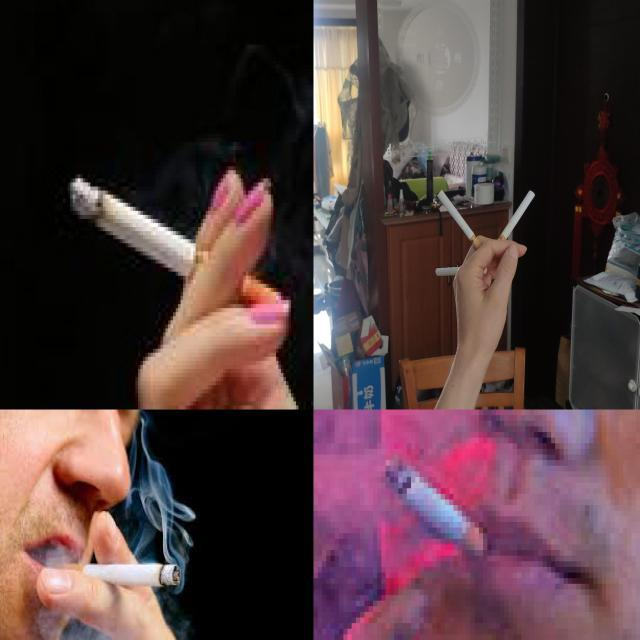smoking: (68, 173, 284, 320), (373, 449, 491, 550), (436, 189, 486, 257), (44, 563, 180, 587), (494, 188, 537, 248), (436, 266, 490, 278)
